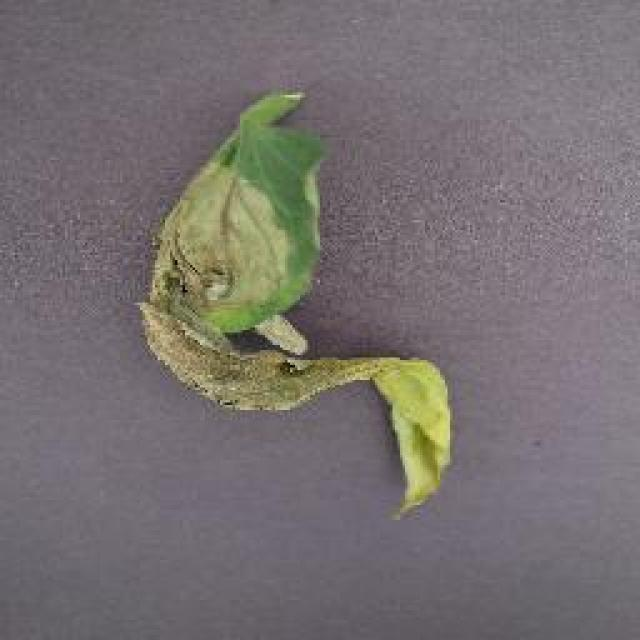Tomato_Late_Blight: (125, 96, 472, 530)
